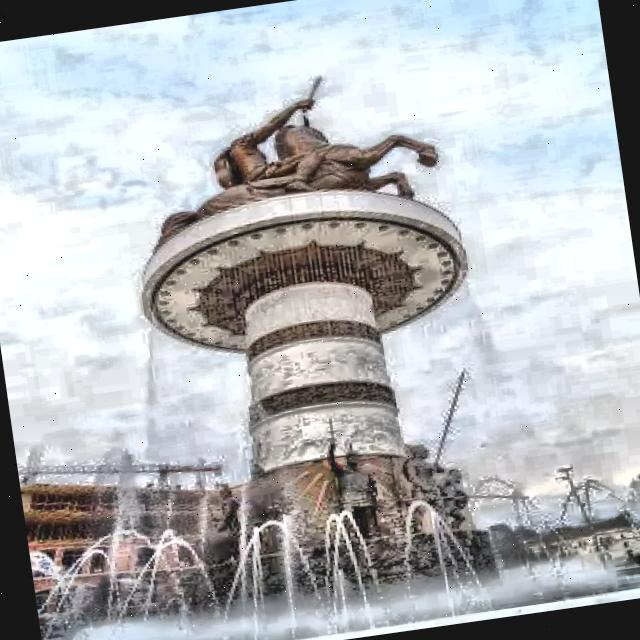alexander the great monument: (94, 49, 543, 640)
